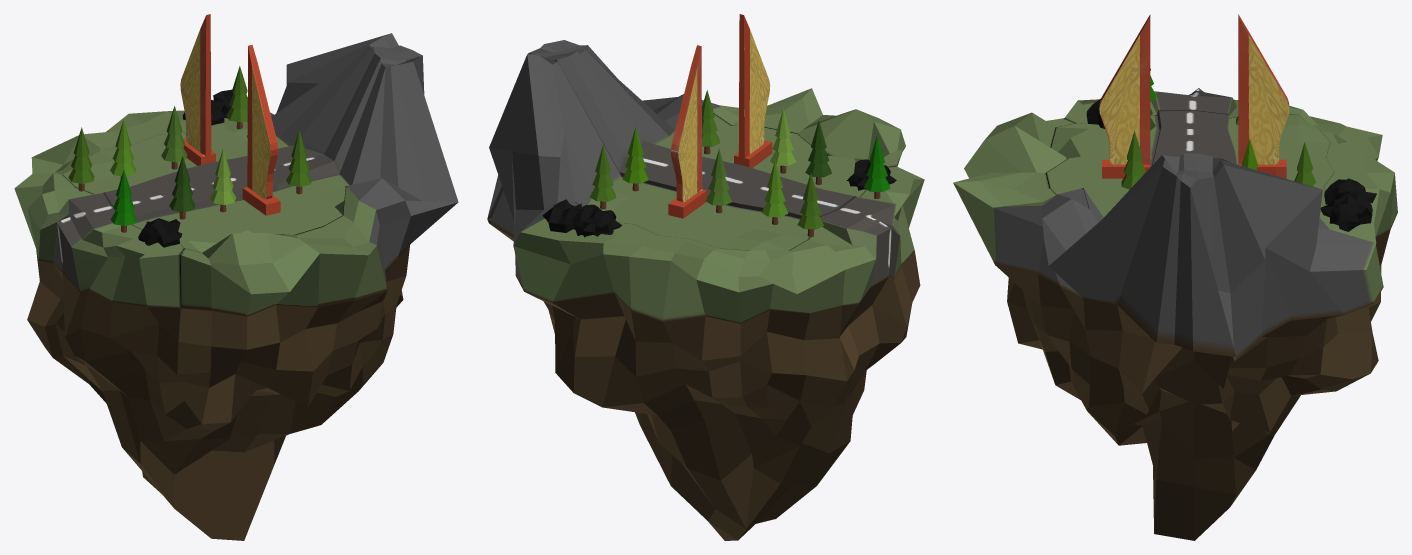
File: floating_island.glb
3 views of the same model, side by side, from view 1: azimuth 30°, elevation 25°; view 2: azimuth 150°, elevation 25°; view 3: azimuth 270°, elevation 25° (orthographic). The views are drawn at different scales.
Parts seen in each view (by area): view 1: Cube.001, Cube.002, Cube, Cube.005, Cone.001, Cone.014, Cone.016, Cone.015, Cone.010, Cone.013, Cone.009, Cone.012; view 2: Cube.001, Cube, Cube.002, Cube.006, Cube.007, Cone.011, Cone.010, Cone.012, Cone.001, Cone.009, Cone.015, Cone.014 (+3 smaller); view 3: Cube.001, Cube, Cube.002, Cube.007, Cone.016, Cube.006, Cone.012.
Boxes of the visible parts, bbox=[...] form: Cube.001: bbox=[14, 33, 458, 540]; Cube.002: bbox=[242, 44, 280, 215]; Cube: bbox=[180, 14, 215, 165]; Cube.005: bbox=[138, 218, 182, 247]; Cone.001: bbox=[68, 127, 94, 191]; Cone.014: bbox=[169, 156, 195, 219]; Cone.016: bbox=[286, 130, 312, 194]; Cone.015: bbox=[210, 148, 236, 212]; Cone.010: bbox=[161, 106, 187, 169]; Cone.013: bbox=[110, 169, 136, 232]; Cone.009: bbox=[110, 120, 136, 179]; Cone.012: bbox=[226, 66, 247, 129]; Cube.001: bbox=[487, 40, 924, 540]; Cube: bbox=[668, 45, 706, 218]; Cube.002: bbox=[734, 14, 772, 167]; Cube.006: bbox=[573, 204, 622, 237]; Cube.007: bbox=[542, 199, 583, 232]; Cone.011: bbox=[622, 126, 648, 191]; Cone.010: bbox=[706, 148, 732, 213]; Cone.012: bbox=[590, 145, 616, 209]; Cone.001: bbox=[797, 172, 823, 237]; Cone.009: bbox=[761, 160, 788, 224]; Cone.015: bbox=[770, 109, 796, 173]; Cone.014: bbox=[805, 120, 831, 184]; Cube.001: bbox=[953, 88, 1397, 540]; Cube: bbox=[1238, 14, 1289, 178]; Cube.002: bbox=[1099, 14, 1150, 178]; Cube.007: bbox=[1320, 191, 1372, 231]; Cone.016: bbox=[1121, 131, 1145, 189]; Cube.006: bbox=[1324, 178, 1376, 204]; Cone.012: bbox=[1294, 141, 1316, 186].
Bounding box in the file's own units: 4.57 × 5.72 × 4.37.
5 materials, 5 textured.
